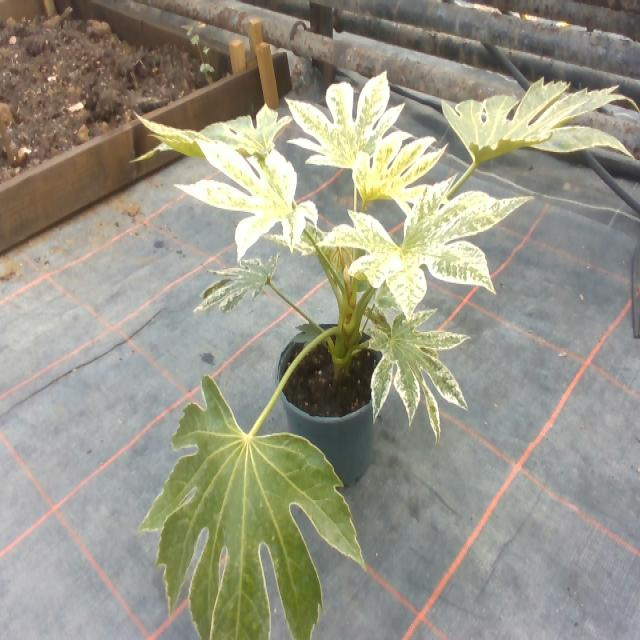Fatsia-japonica: (138, 376, 343, 640), (318, 181, 508, 298), (441, 68, 628, 184), (188, 125, 324, 271), (362, 312, 473, 433), (285, 73, 409, 180), (151, 87, 281, 173), (187, 234, 281, 332), (348, 137, 448, 211)
